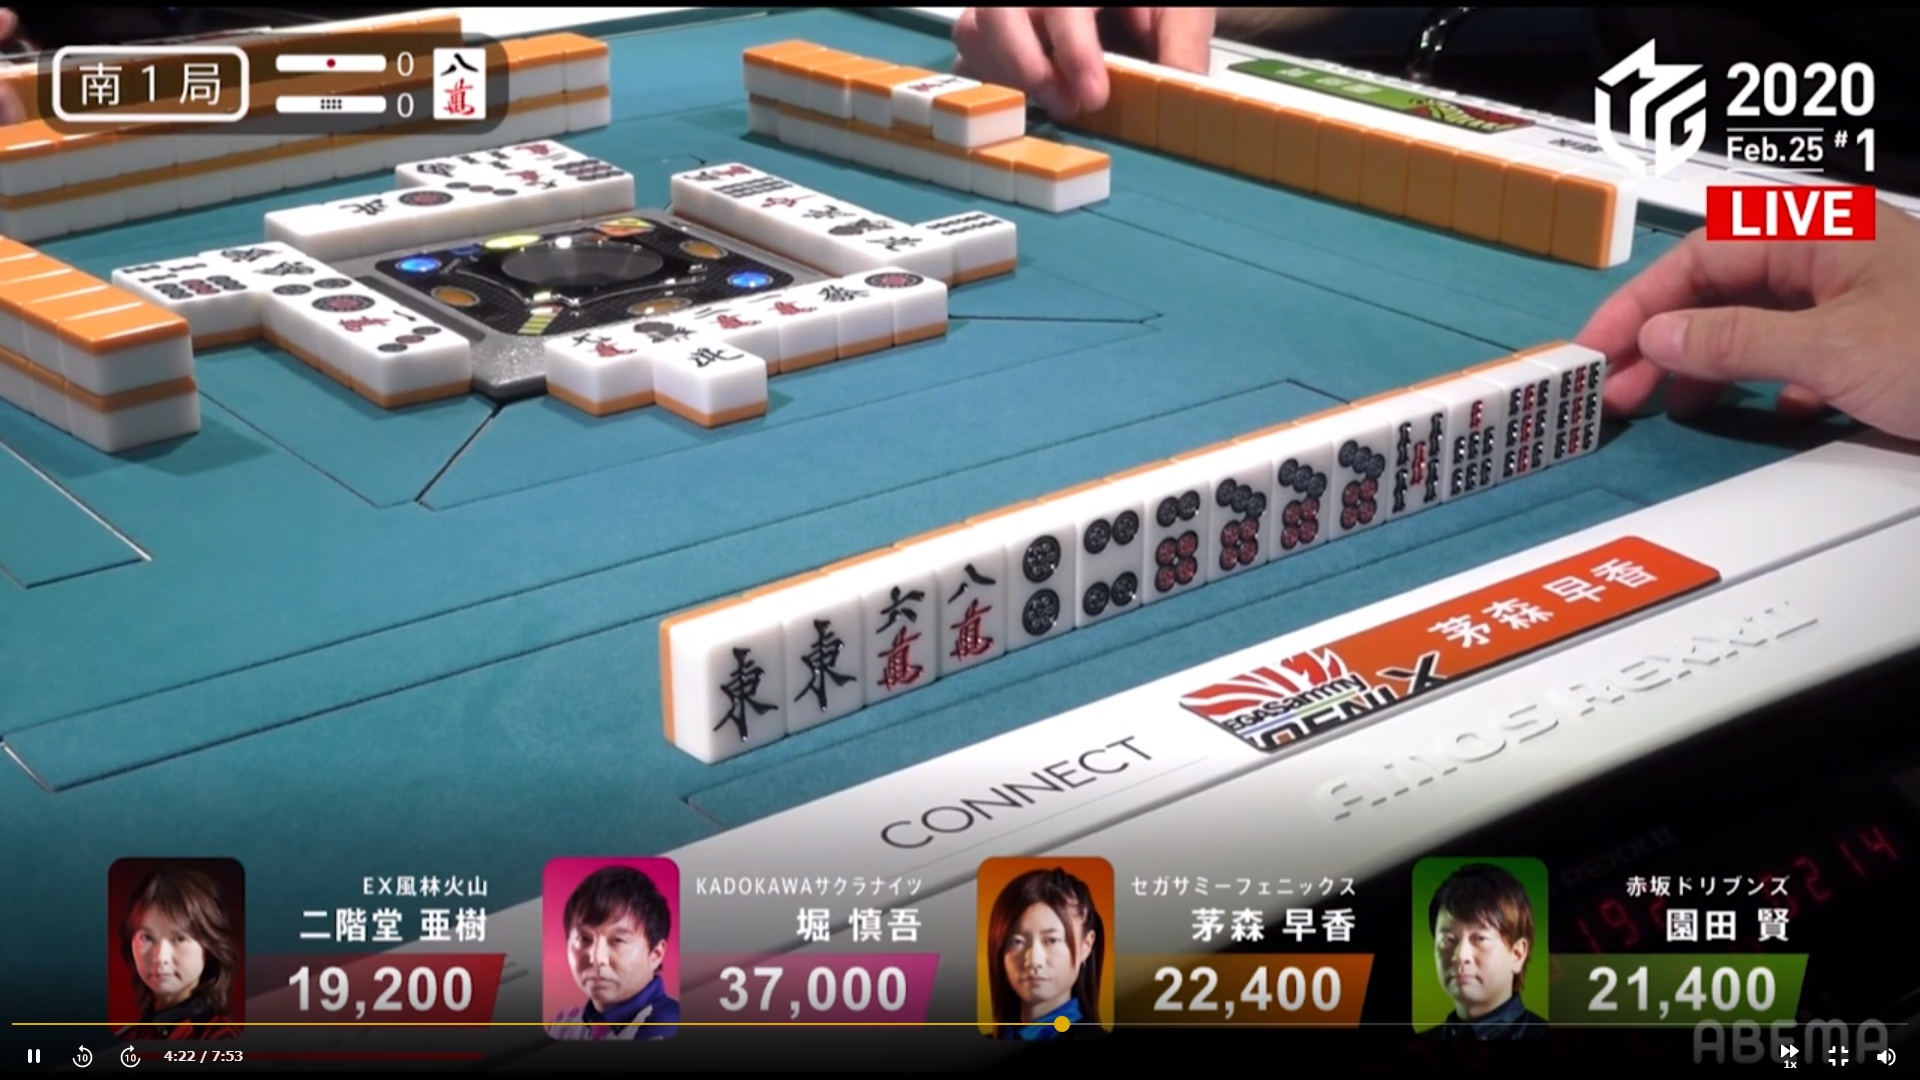2p: (1006, 526, 1072, 646)
4p: (1068, 506, 1143, 622)
5s: (1385, 407, 1441, 514)
6m: (864, 576, 938, 696)
6p: (1142, 480, 1205, 601)
7p: (1270, 444, 1335, 560), (1205, 463, 1263, 580), (1332, 423, 1386, 534)
7s: (1447, 389, 1501, 497)
8m: (935, 550, 1007, 669)
9s: (1551, 355, 1602, 465), (1501, 377, 1548, 483)
hand_nan_1: (44, 37, 258, 127)
round_0: (266, 87, 421, 124)
team_segasammy: (1174, 616, 1477, 752)
ton: (702, 621, 786, 753), (785, 597, 862, 725)
